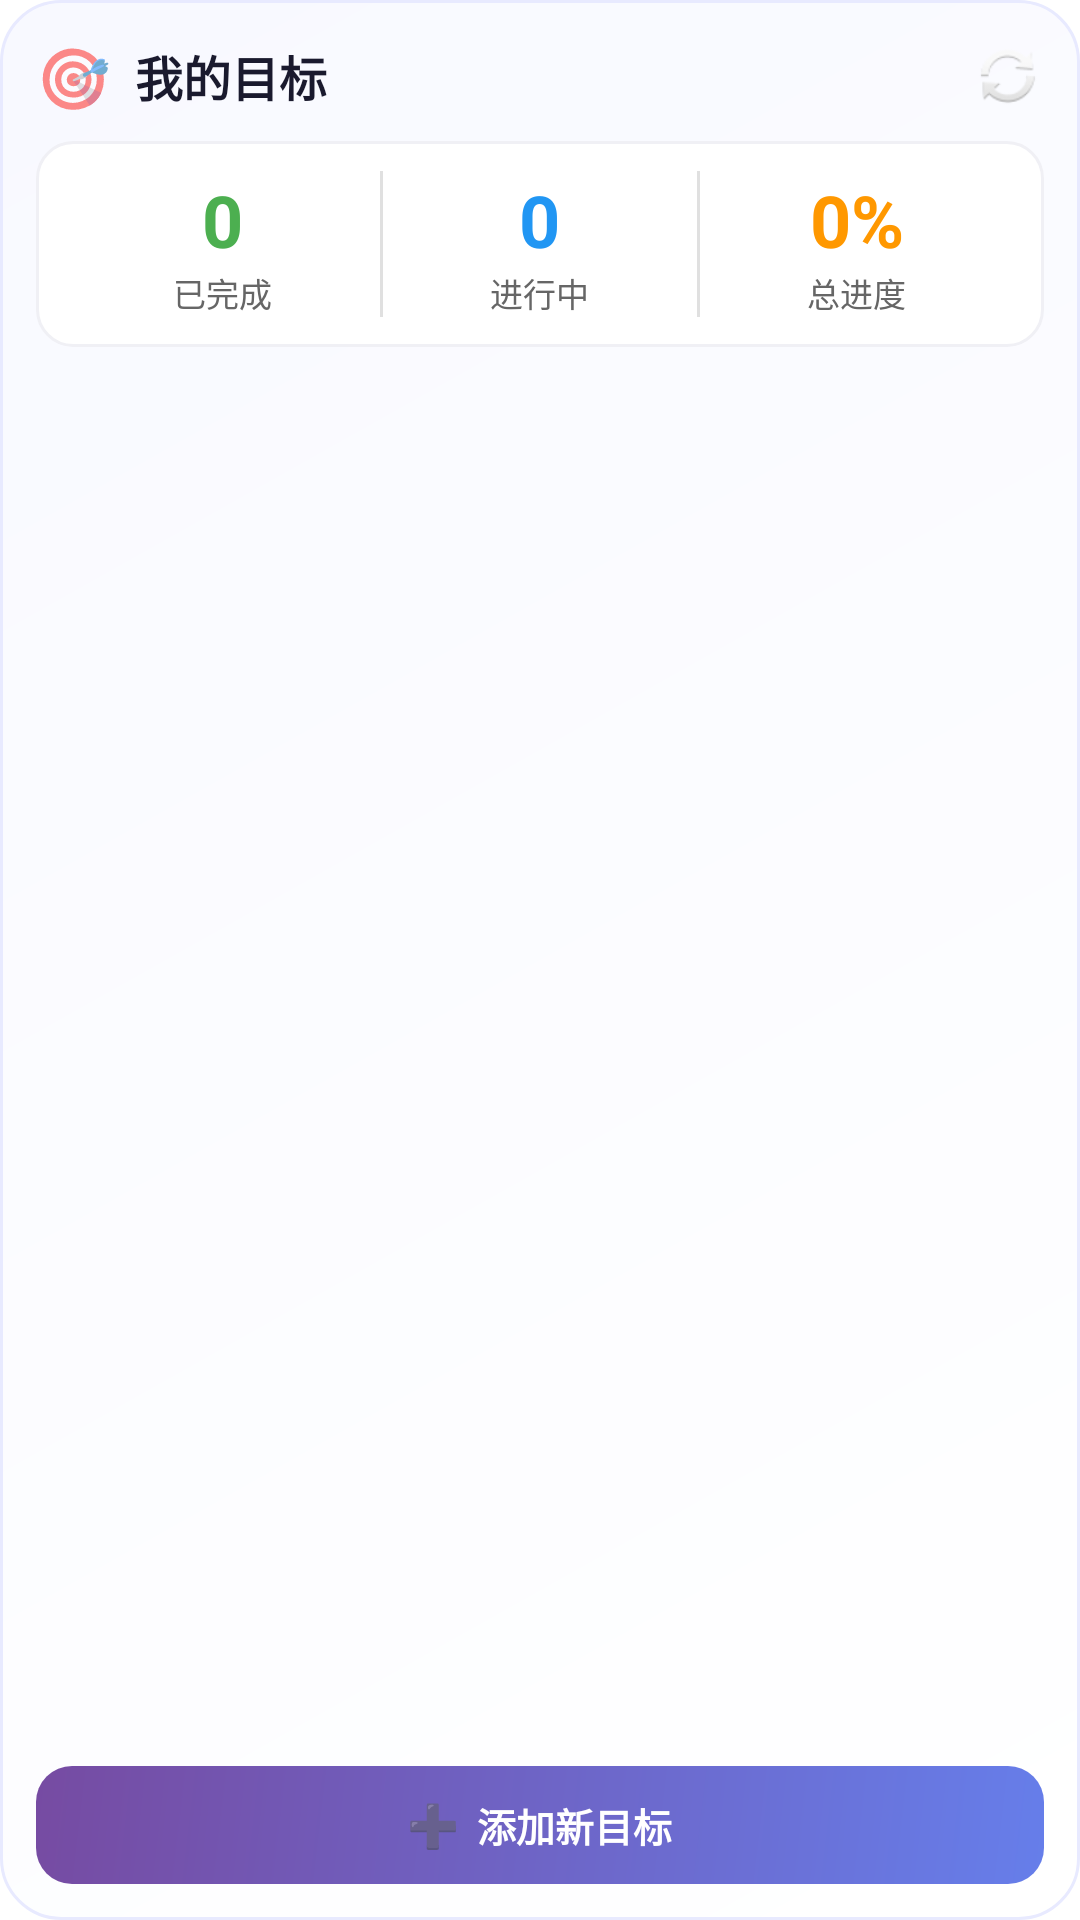

Named icons in this screenshot (1080 × 1920) and their centers, (x,y):
刷新: (1008,79)
